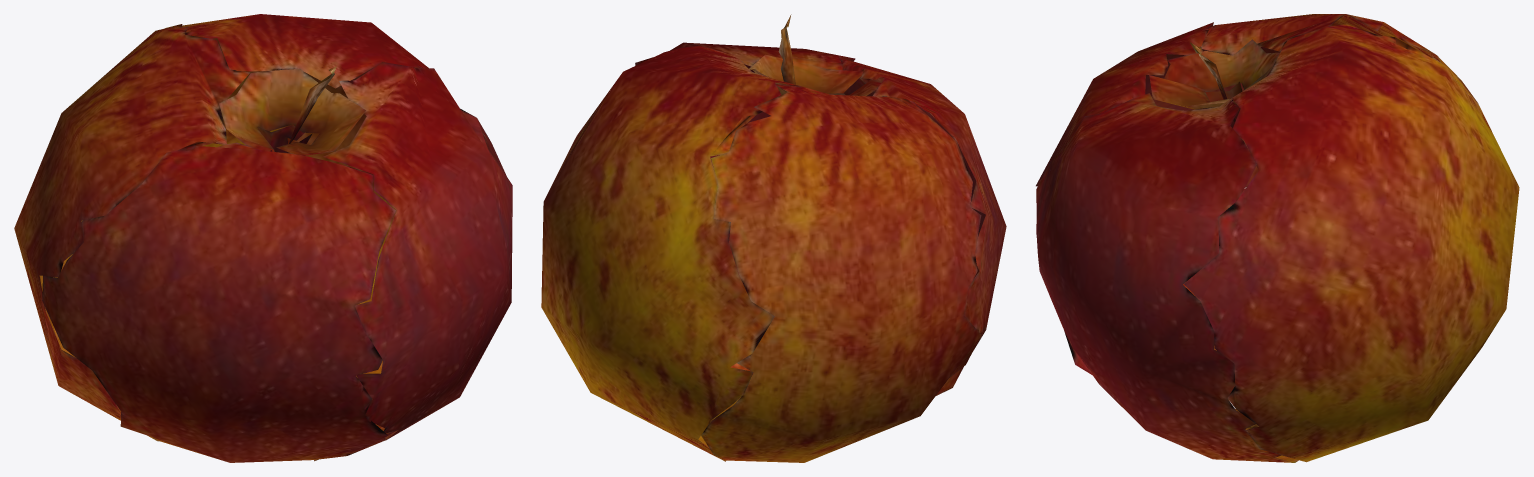
The model's file is apple.glb.
The picture shows the model from 3 angles, left to right: view 1: azimuth 30°, elevation 25°; view 2: azimuth 150°, elevation 25°; view 3: azimuth 270°, elevation 25°; orthographic projection. The views are drawn at different scales.
Parts seen in each view (by area): view 1: food_apple_01; view 2: food_apple_01; view 3: food_apple_01.
Boxes of the visible parts, x1=… form: food_apple_01: x1=14, y1=14, x2=512, y2=462; food_apple_01: x1=541, y1=14, x2=1006, y2=462; food_apple_01: x1=1036, y1=14, x2=1519, y2=462.
Size of the model in its own units: 0.0991 by 0.0854 by 0.096.
1 material, 1 textured.
